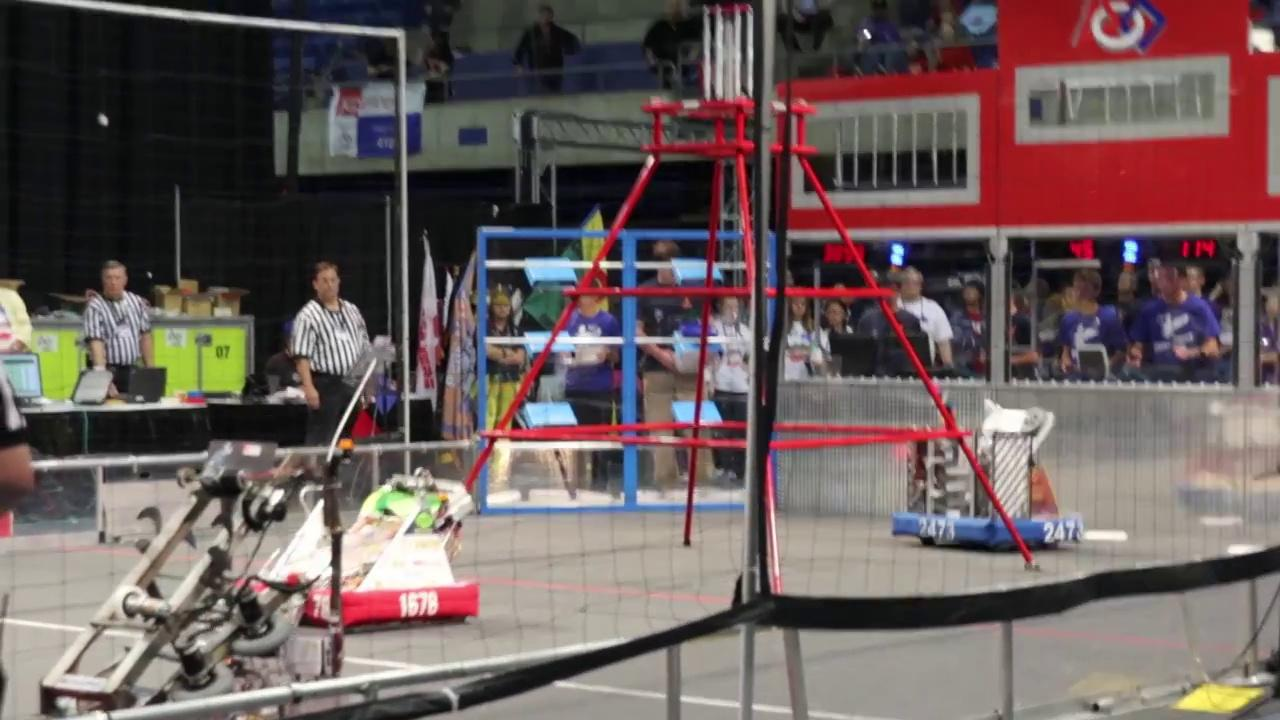robot: (887, 397, 1086, 557), (343, 460, 491, 632)
